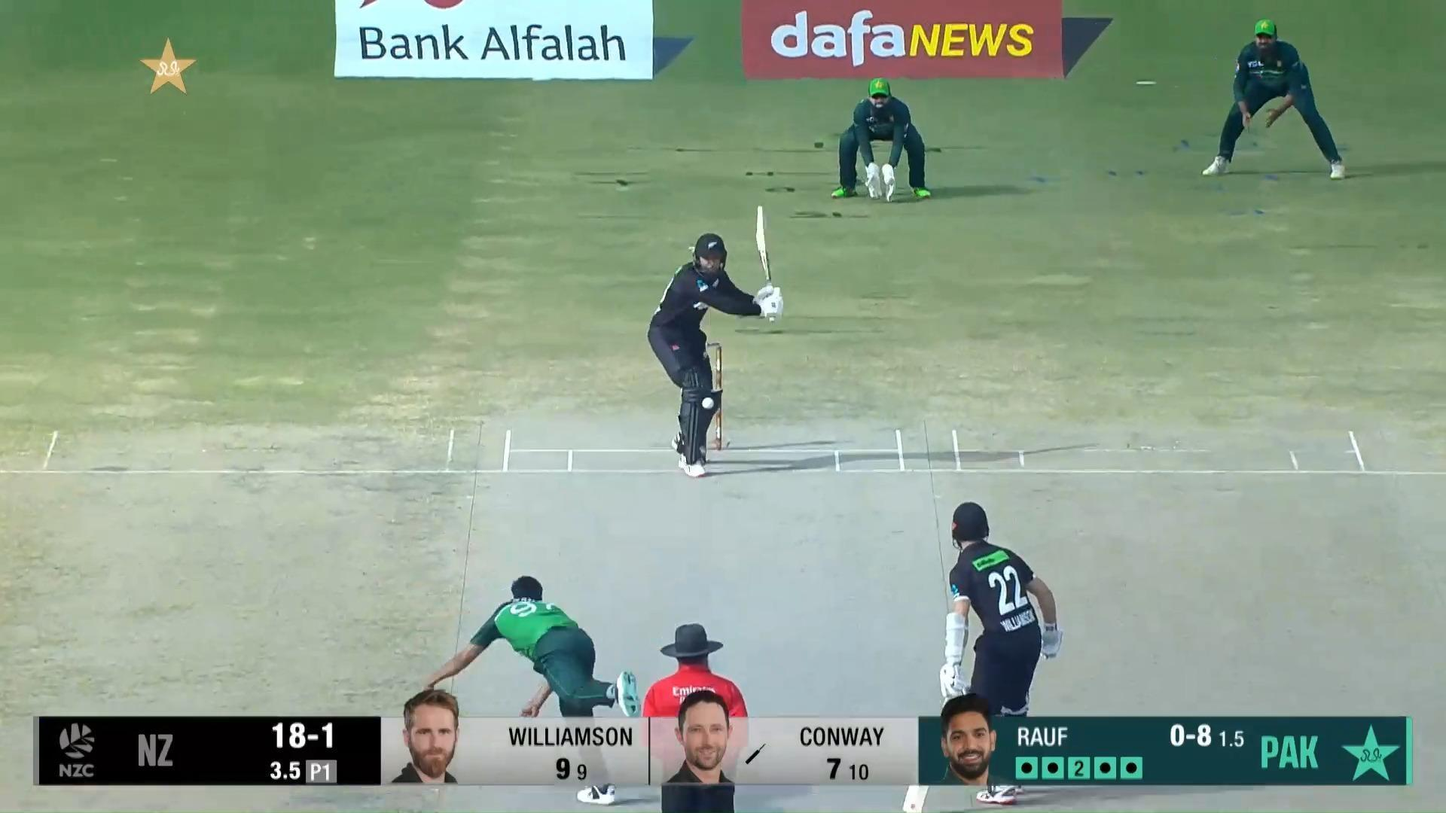BM 1: (647, 205, 785, 477)
BO: (423, 574, 641, 716)
